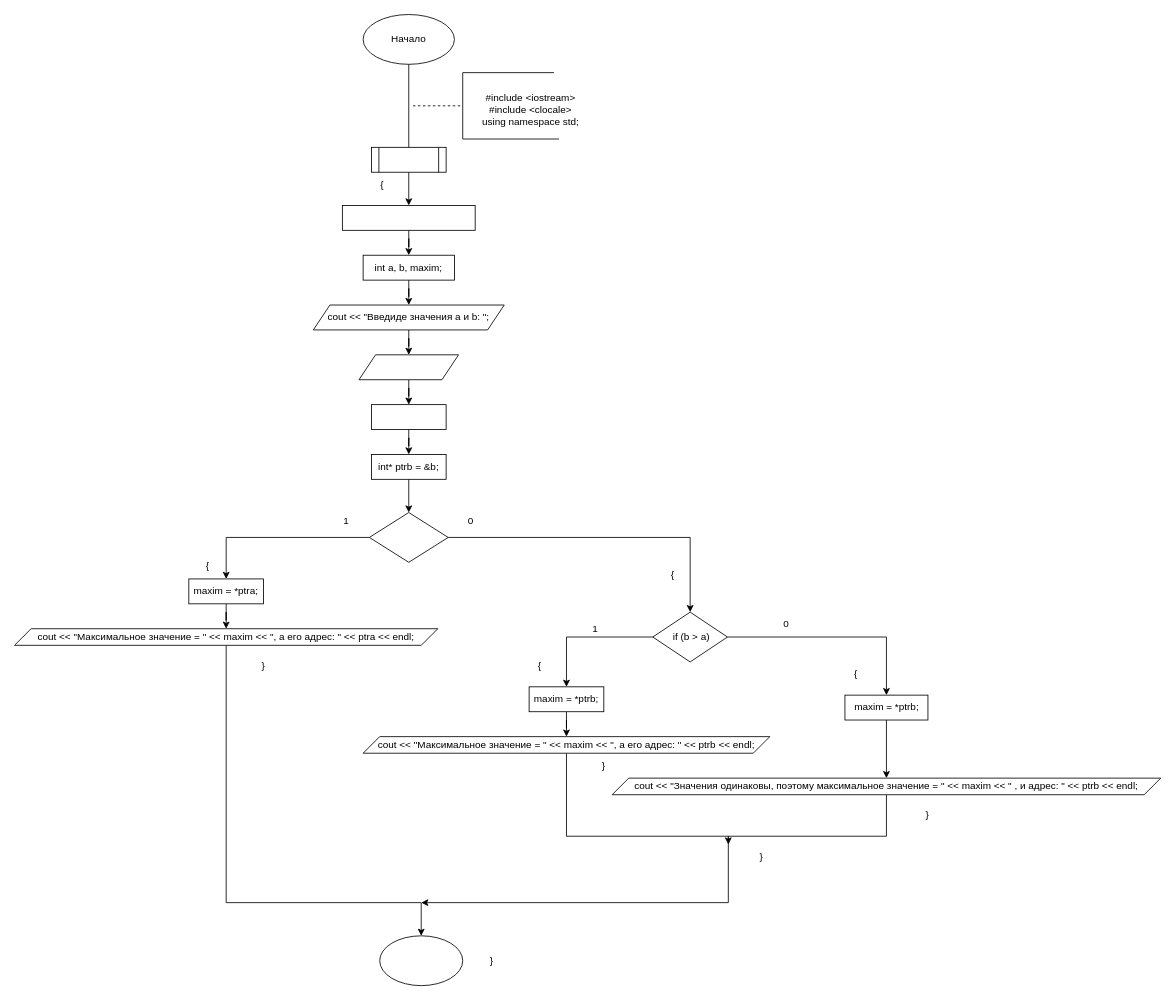
Image size: 1175x1000. Some labels were removed from this diagram. Here are the shapes that lost their labels. From the top down, the box of each, then its label:
(371, 146, 446, 172): int main()
(342, 205, 475, 230): setlocale(LC_ALL, "rus");
(358, 354, 459, 380): cin >> a >> b;
(371, 404, 446, 430): int* ptra = &a;
(369, 512, 448, 562): if (a > b)
(379, 935, 463, 986): return 0;
